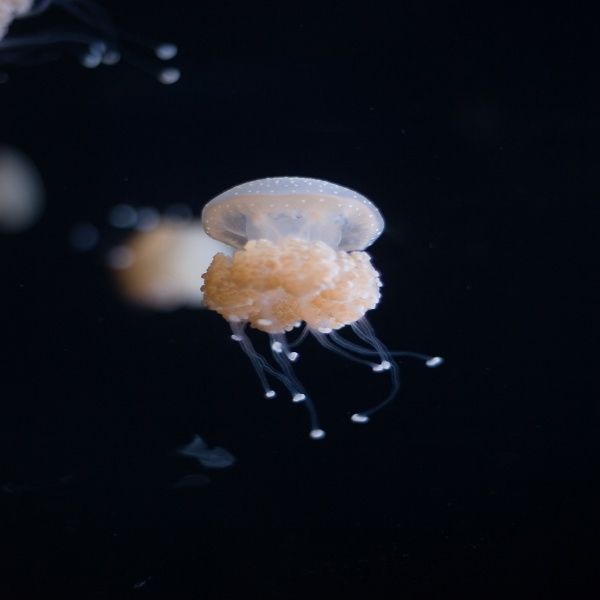Jellyfish: (184, 175, 404, 432)
